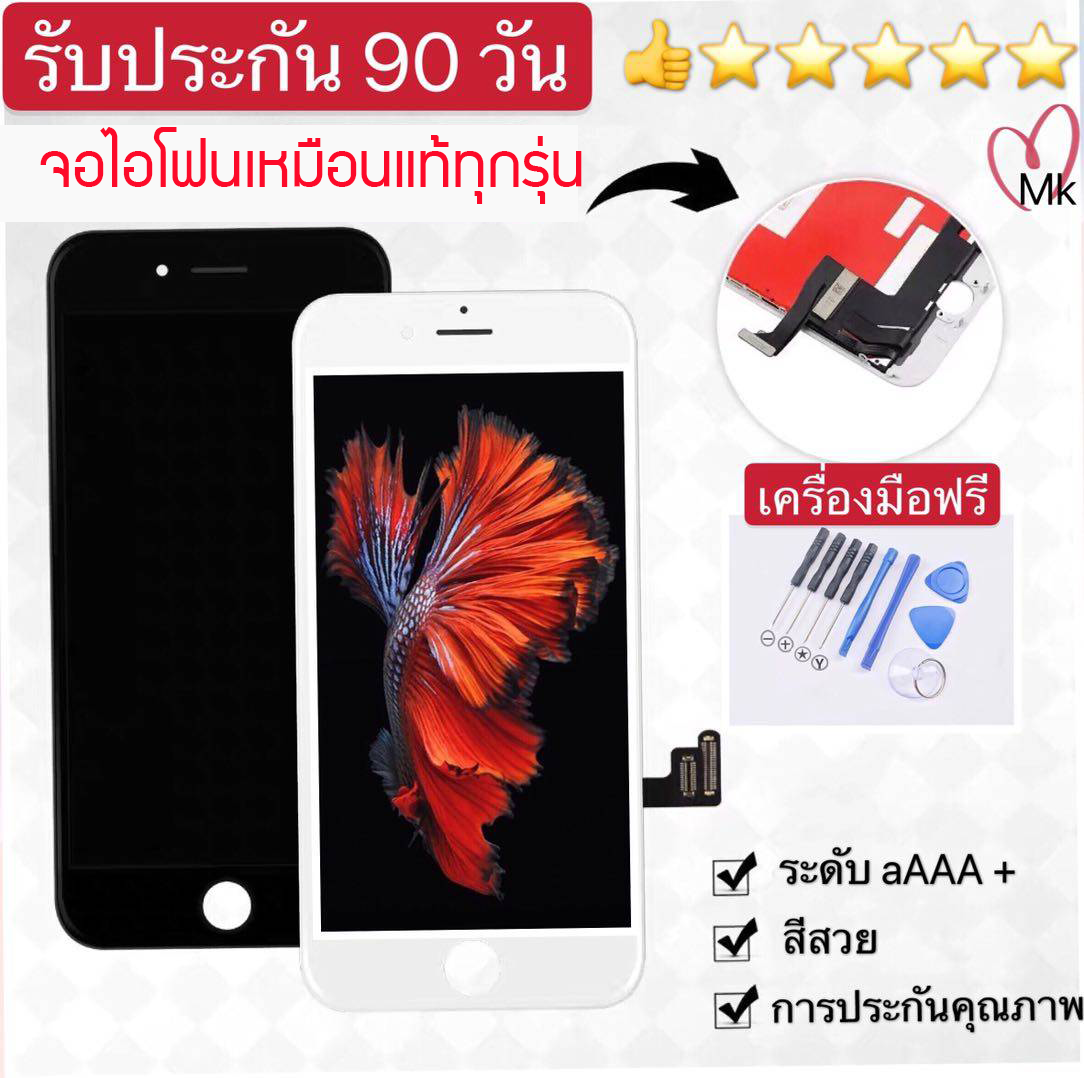Phone: (279, 284, 652, 1015), (42, 226, 396, 957)
